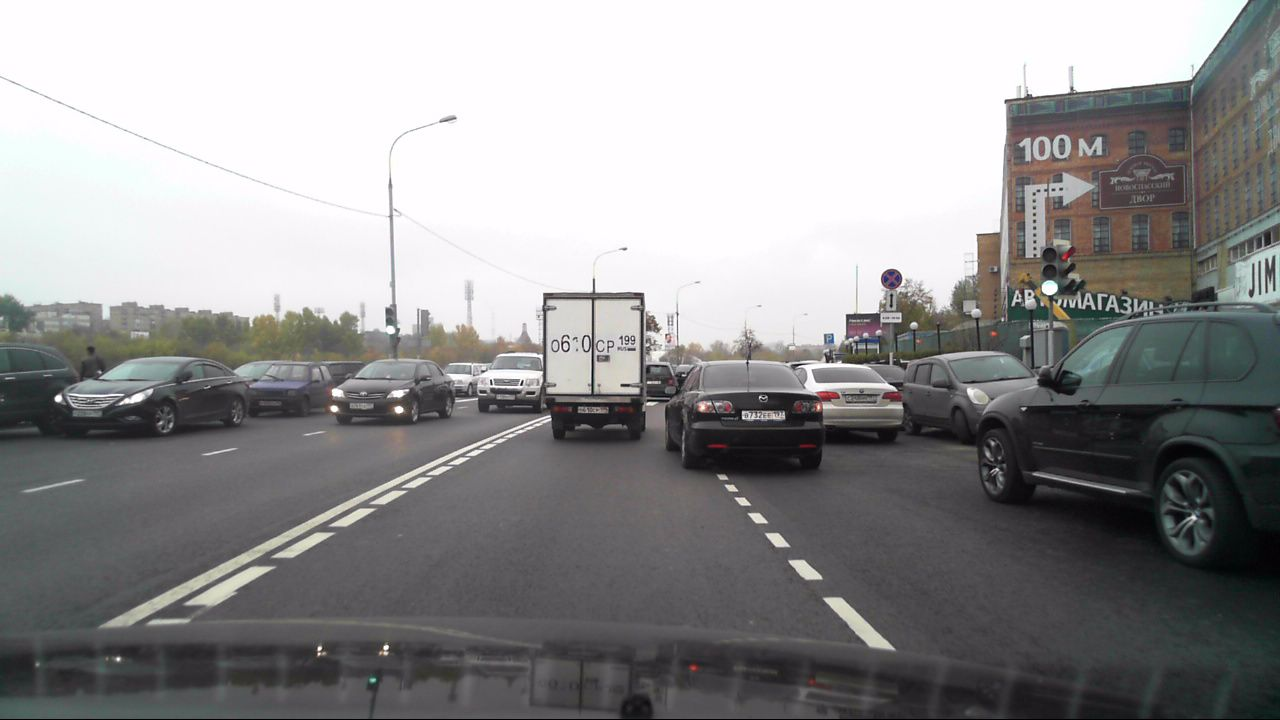No Parking: (880, 266, 902, 290)
